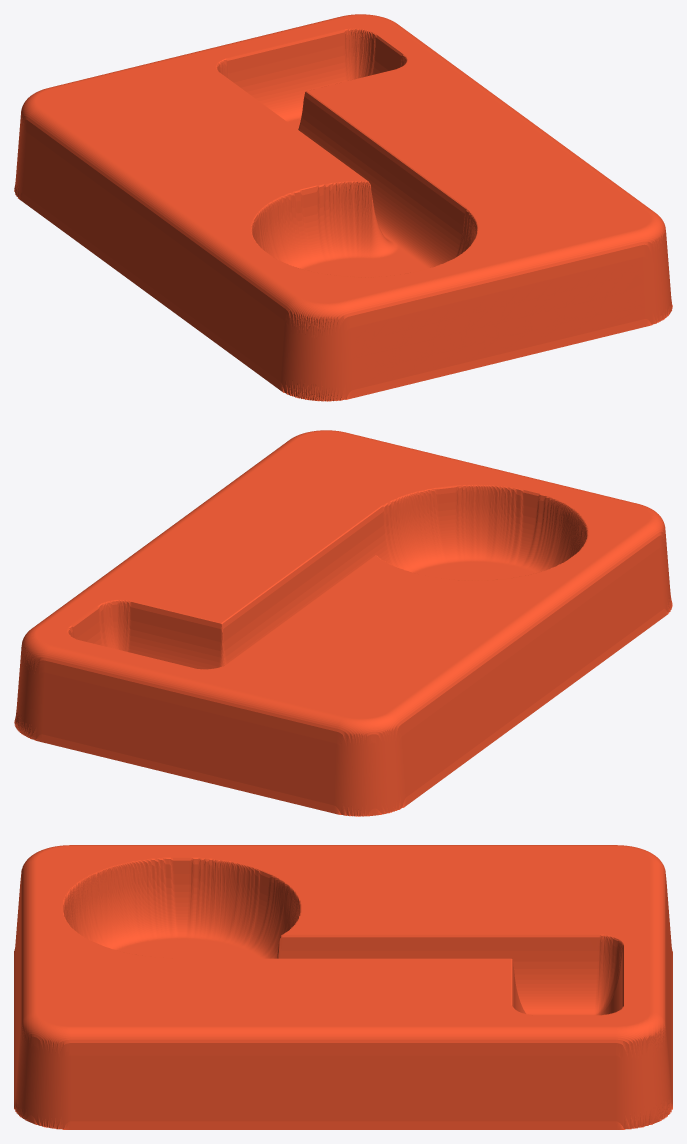
File: mold.glb
The picture shows the model from 3 angles, top to bottom: view 1: azimuth 30°, elevation 25°; view 2: azimuth 150°, elevation 25°; view 3: azimuth 270°, elevation 25°; orthographic projection. The views are drawn at different scales.
Visible parts, largest first — view 1: geometry_0; view 2: geometry_0; view 3: geometry_0.
Part boxes in pixels (x1,y1,x2,y2): geometry_0: [14, 14, 672, 401]; geometry_0: [14, 430, 672, 816]; geometry_0: [14, 845, 672, 1129].
Bounding box in the file's own units: 0.075 × 0.0165 × 0.105.
